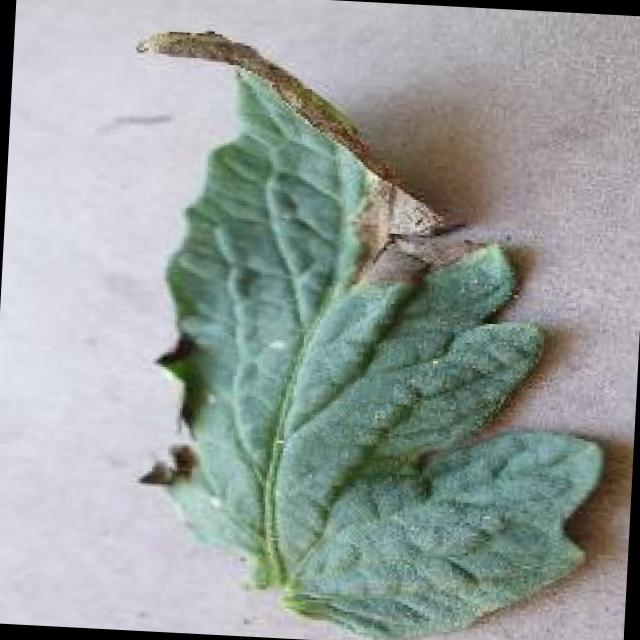Tomato_Early_Blight: (104, 12, 508, 510)
